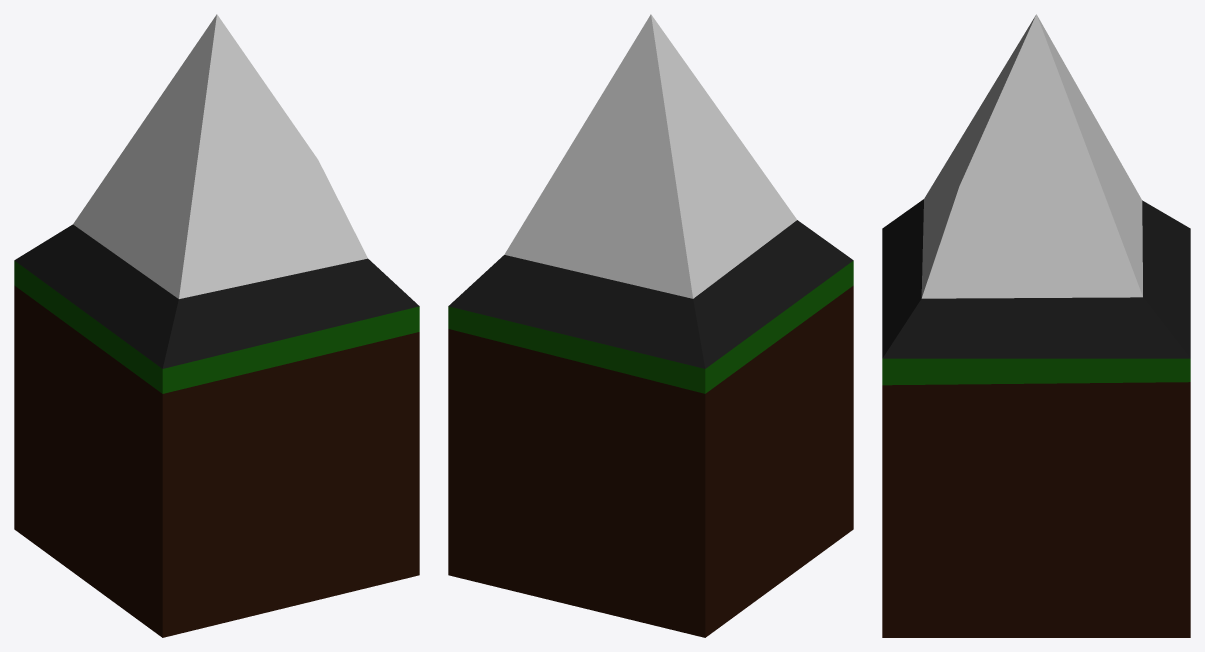
The model's file is mountain.obj.
3 views of the same model, side by side, from view 1: azimuth 30°, elevation 25°; view 2: azimuth 150°, elevation 25°; view 3: azimuth 270°, elevation 25° (orthographic). The views are drawn at different scales.
Parts seen in each view (by area): view 1: mountain_Cube.017; view 2: mountain_Cube.017; view 3: mountain_Cube.017.
Part boxes in pixels (x1,y1,x2,y2): mountain_Cube.017: (14,14,419,637); mountain_Cube.017: (448,14,853,637); mountain_Cube.017: (882,14,1190,637).
Bounding box in the file's own units: 2 × 4 × 2.
